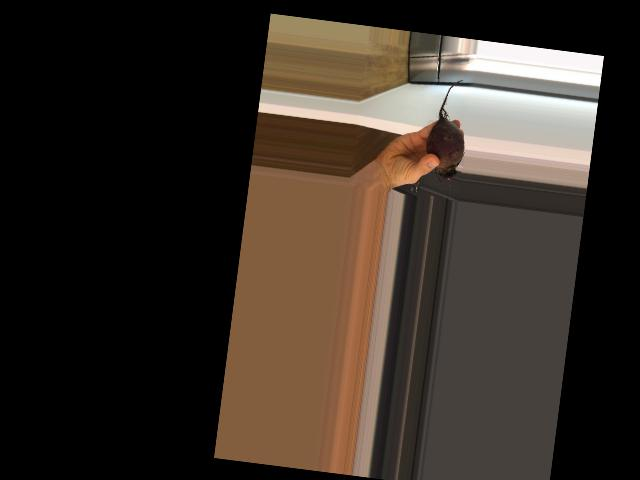beet: (422, 76, 473, 185)
